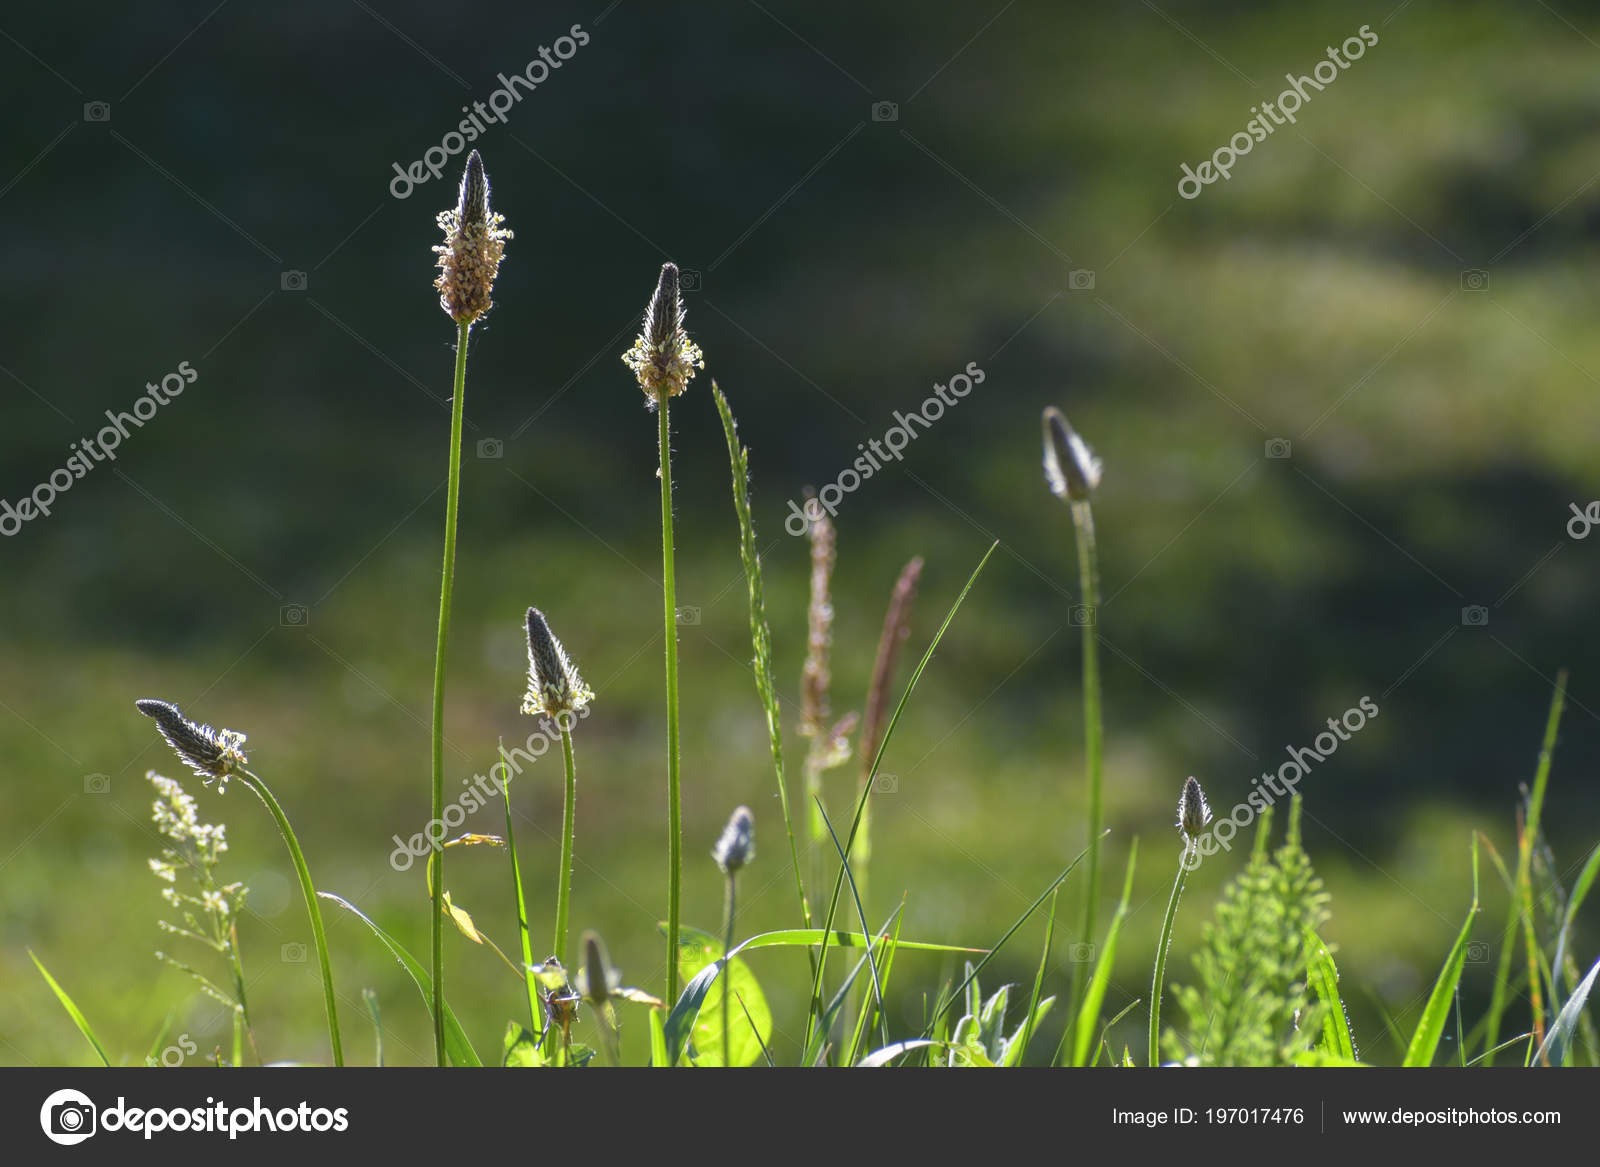buckhorn plantain: (142, 685, 376, 1034), (1011, 394, 1140, 937), (494, 585, 635, 1008), (614, 259, 728, 454), (424, 140, 519, 349)
